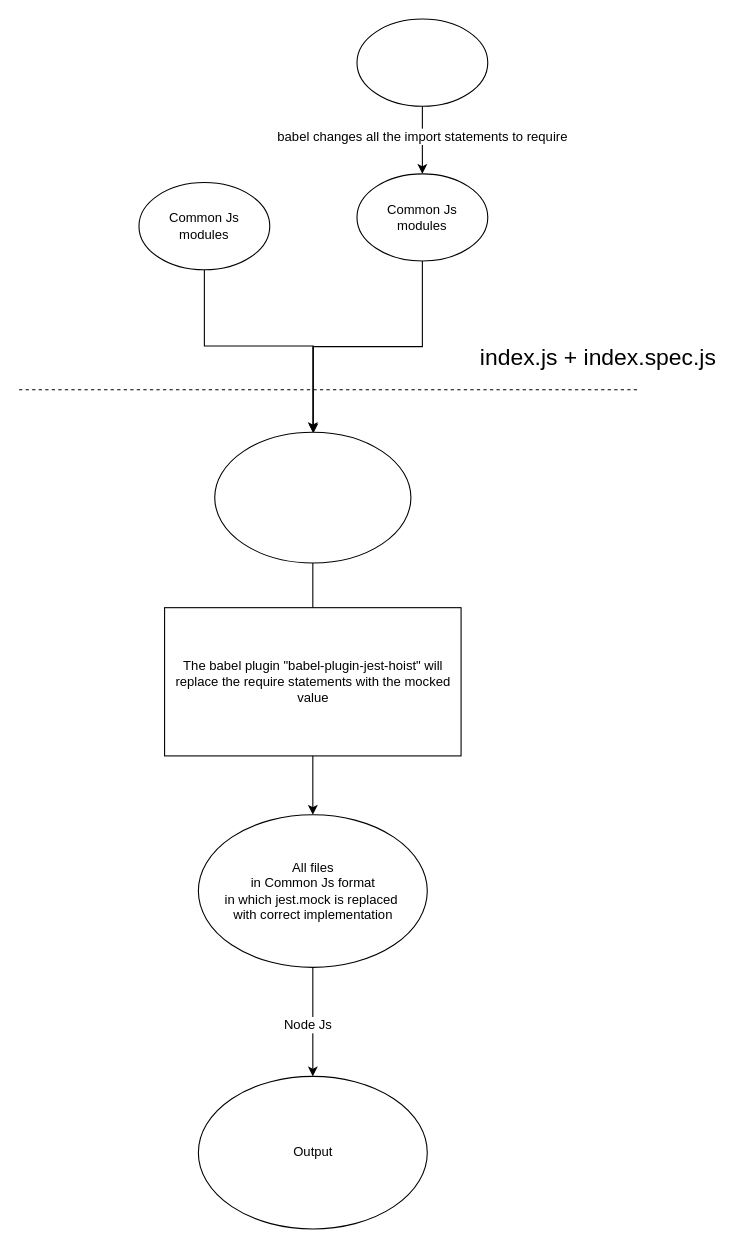
The diagram is 742 pixels wide and 1248 high, and some of its shapes have lost their labels. Here are the shapes that lost their labels. From the top down, the centre of each, then its label:
[422,62]: Es modules
[312,497]: All files in Common Js format which jest.mock functions
